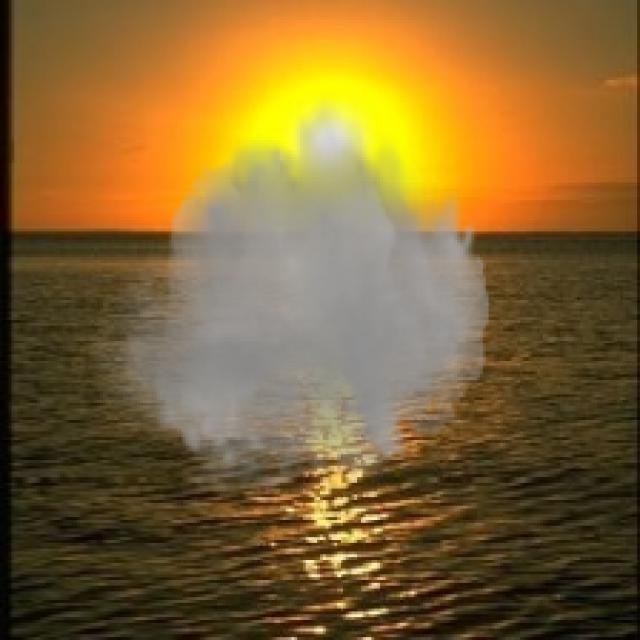Smoke: (88, 89, 500, 512)
